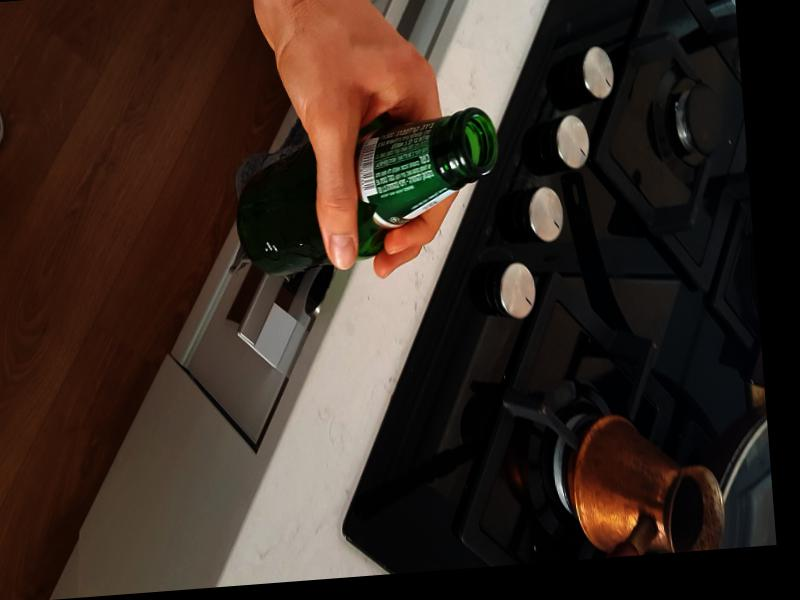Beer: (228, 107, 506, 275)
